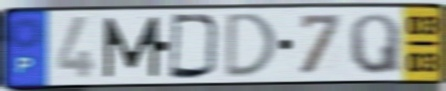4: (53, 13, 100, 83)
7: (298, 12, 344, 78)
D: (223, 11, 280, 81), (167, 12, 223, 81)
M: (101, 15, 162, 80)
Q: (346, 11, 404, 76)
